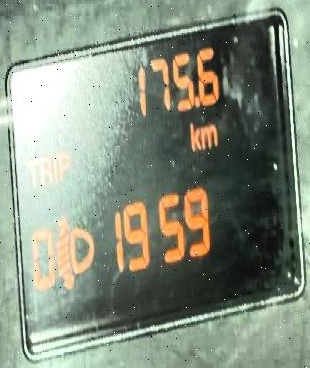-: (193, 95, 200, 107)
0: (30, 226, 54, 289)
1: (113, 210, 124, 272), (137, 66, 146, 116)
5: (158, 192, 184, 261), (171, 51, 192, 110)
6: (196, 46, 219, 104)
7: (150, 57, 170, 110)
9: (183, 186, 210, 257), (124, 199, 150, 271)
X: (25, 156, 39, 188), (200, 124, 217, 149), (39, 155, 52, 186), (189, 120, 201, 150), (57, 150, 68, 181), (52, 153, 57, 184)
